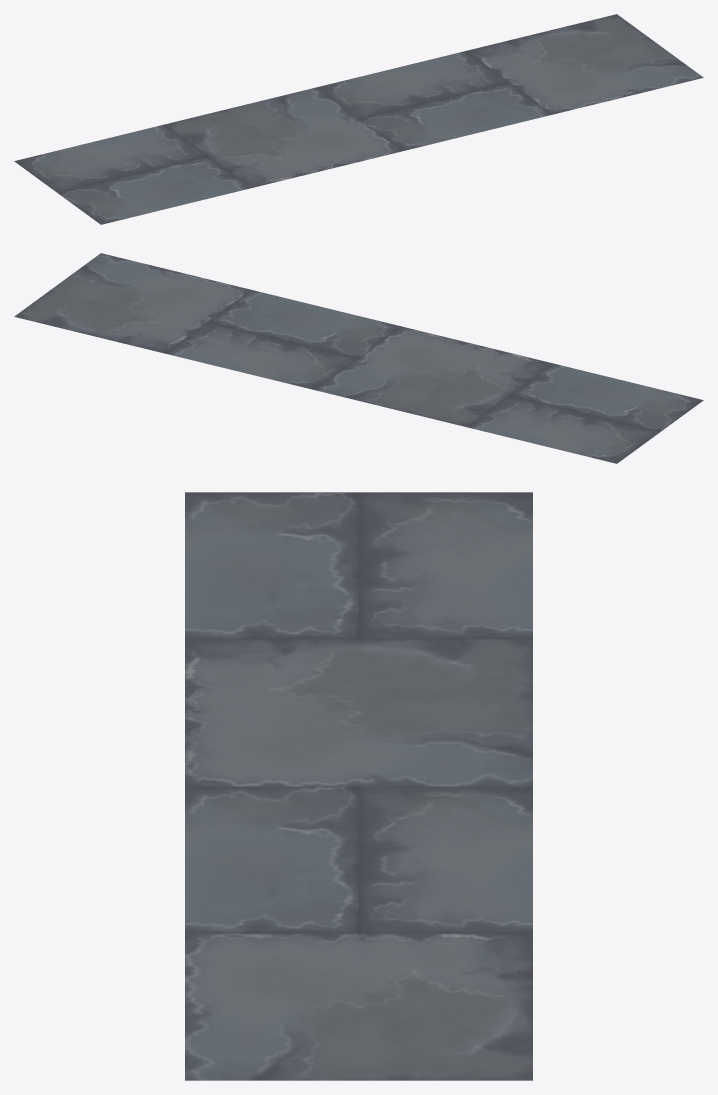
File: Castle Ground X Bright 4x1.fbx
3 views of the same model, one above another, from view 1: azimuth 30°, elevation 25°; view 2: azimuth 150°, elevation 25°; view 3: azimuth 270°, elevation 25° (orthographic). The views are drawn at different scales.
Visible parts, largest first — view 1: Castle Ground X Bright 4x1; view 2: Castle Ground X Bright 4x1; view 3: Castle Ground X Bright 4x1.
Boxes of the visible parts, x1,y1,x2,y2 form: Castle Ground X Bright 4x1: (14,14,703,224); Castle Ground X Bright 4x1: (14,253,703,463); Castle Ground X Bright 4x1: (185,492,532,1080).
Bounding box in the file's own units: 3 × 1.79e-07 × 0.75.
